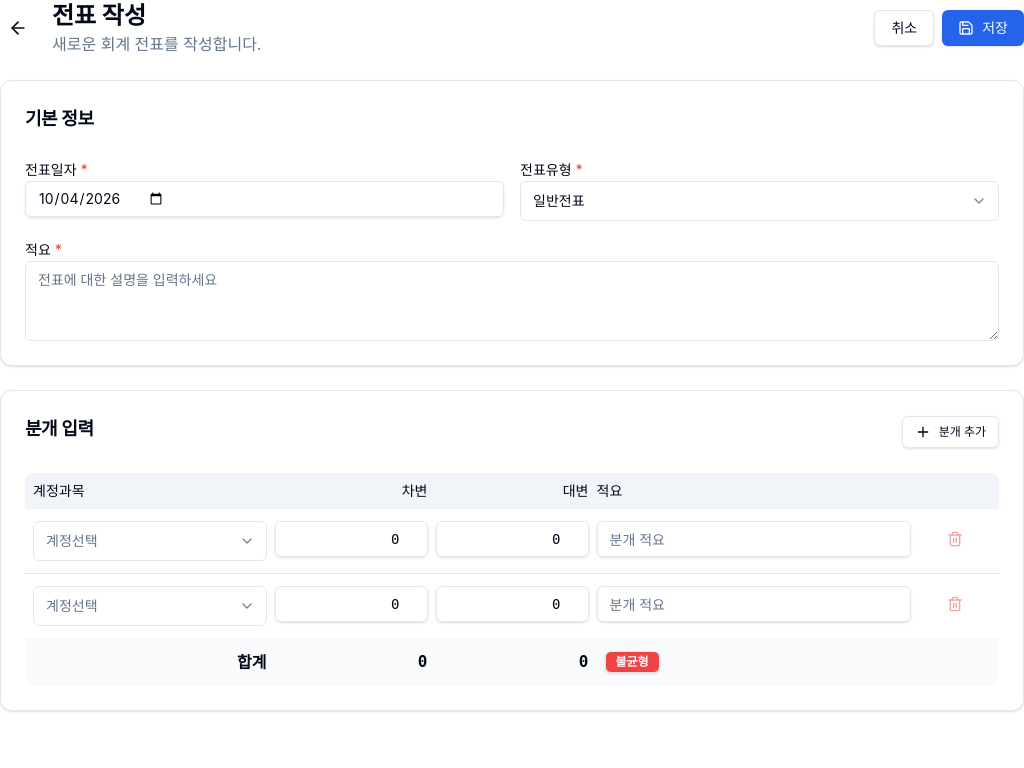
Test: VoucherFormPage › form validation › should show error for empty voucher date
Clear the date field labelled "전표일자*" at (264, 199), box left=25, top=181, right=504, bottom=217
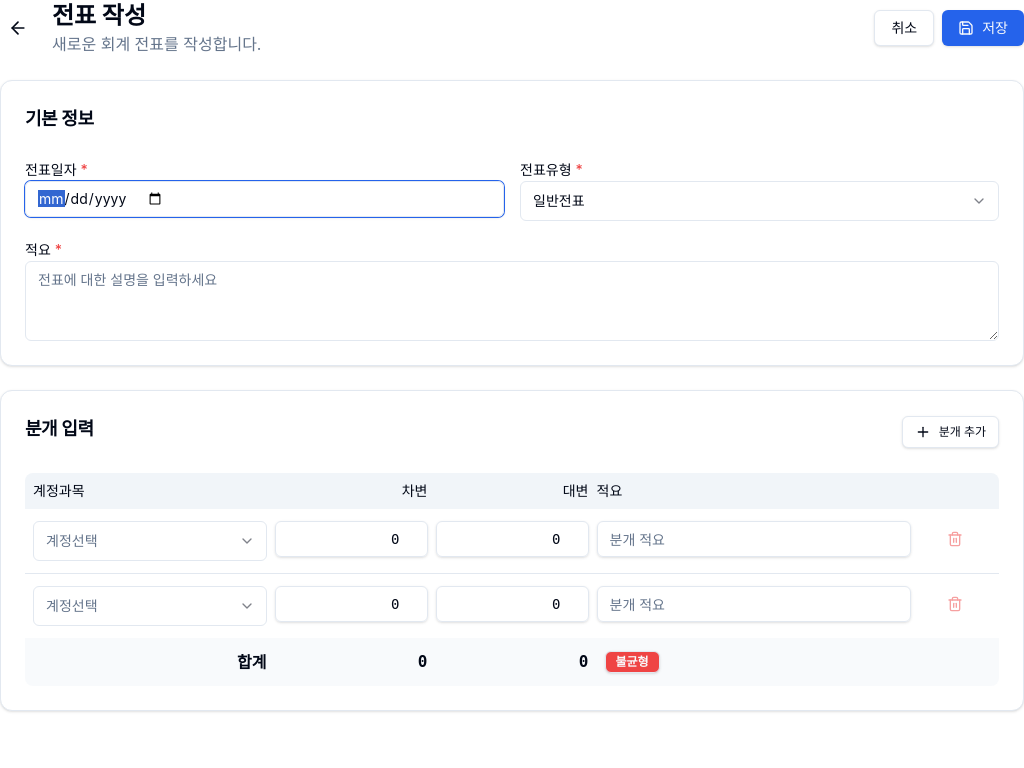
Click the button "저장" at (983, 28), box left=942, top=10, right=1023, bottom=46
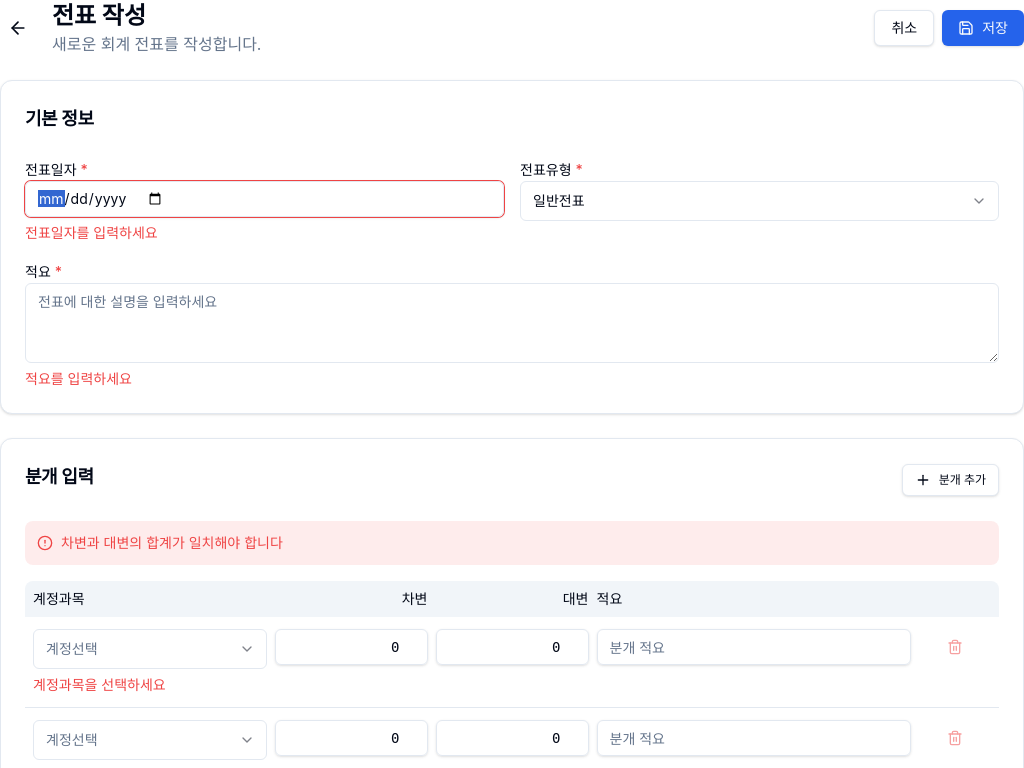
Expected: the text "전표일자를 입력하세요" is shown, left=25, top=224, right=158, bottom=241
